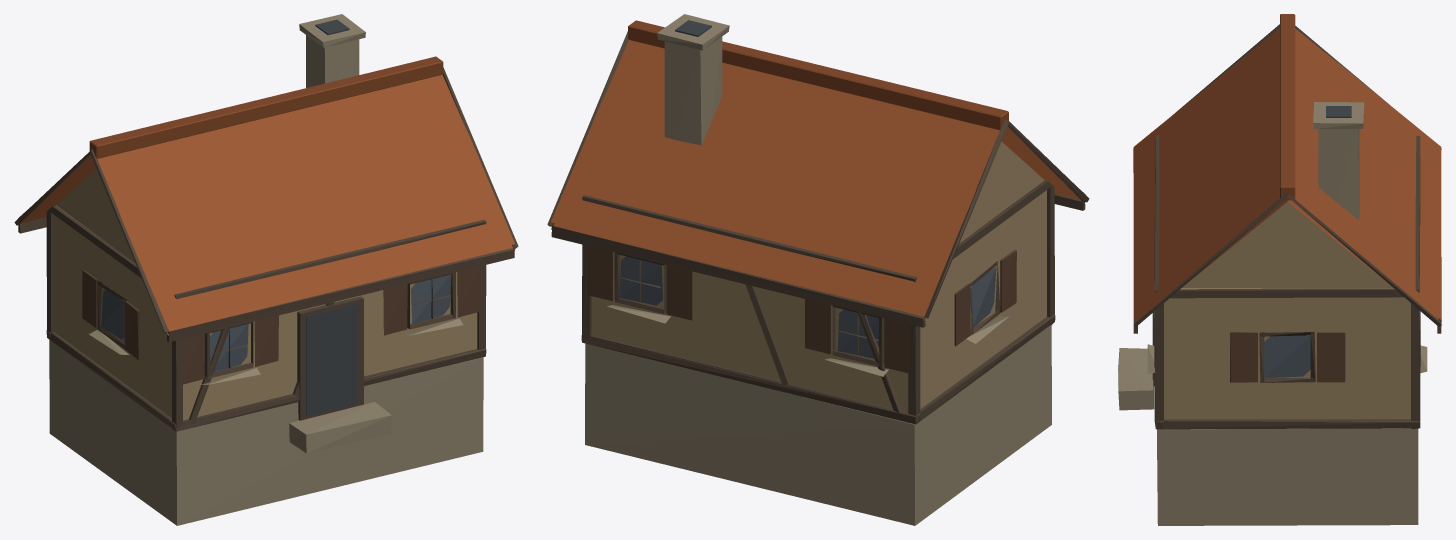
Rendered from house-lod1.glb.
3 views of the same model, side by side, from view 1: azimuth 30°, elevation 25°; view 2: azimuth 150°, elevation 25°; view 3: azimuth 270°, elevation 25° (orthographic). The views are drawn at different scales.
Bounding box in the file's own units: 8.14 × 8.26 × 6.31.
